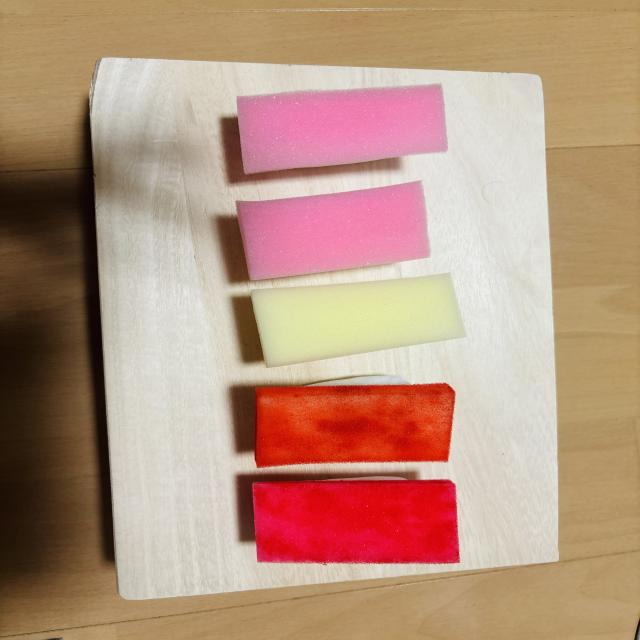maguro: (253, 479, 459, 564)
salmon: (255, 376, 455, 467)
tai: (236, 181, 429, 280), (237, 84, 447, 172)
tamago: (251, 273, 465, 367)
